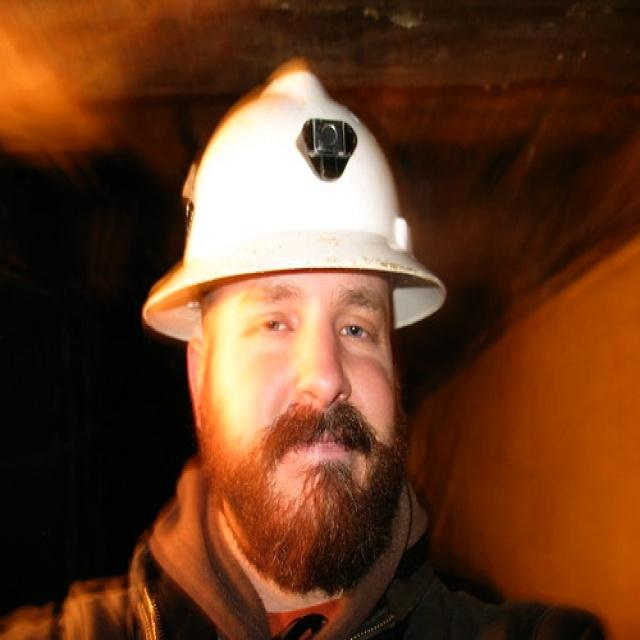helmet: (135, 85, 450, 452)
